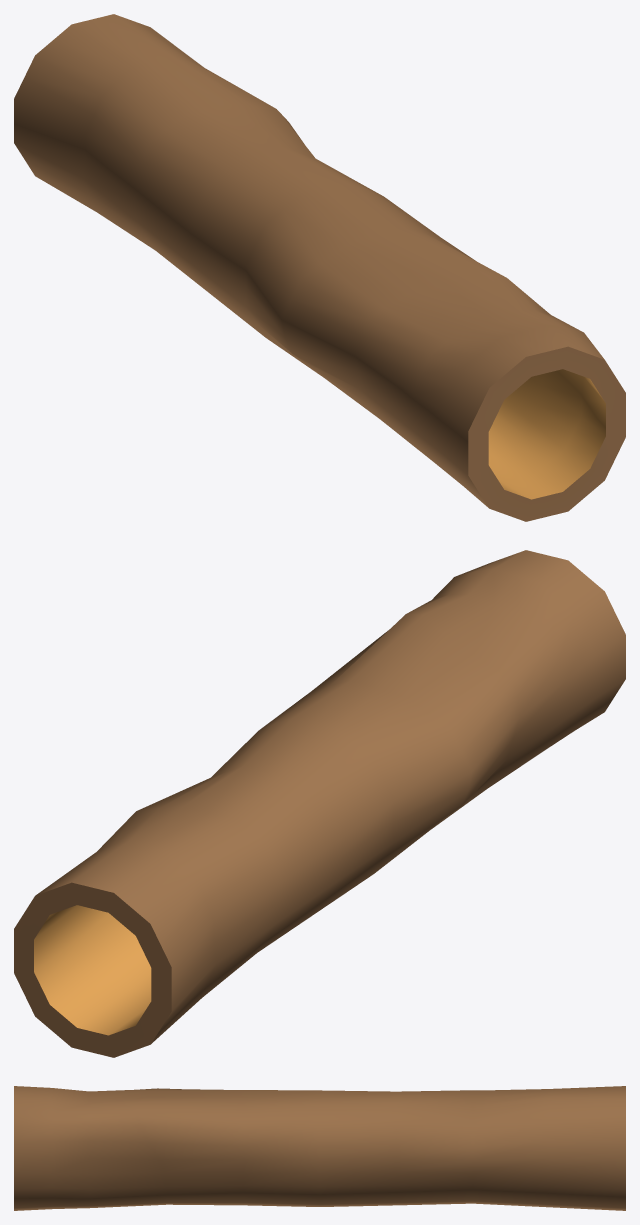
The model's file is tree_log_hallow.fbx.
3 views of the same model, one above another, from view 1: azimuth 30°, elevation 25°; view 2: azimuth 150°, elevation 25°; view 3: azimuth 270°, elevation 25° (orthographic). The views are drawn at different scales.
Visible parts, largest first — view 1: Cylinder.002; view 2: Cylinder.002; view 3: Cylinder.002.
Boxes of the visible parts, <box> form: Cylinder.002: <box>14,14,625,521</box>; Cylinder.002: <box>14,550,625,1057</box>; Cylinder.002: <box>14,1086,625,1210</box>.
Size of the model in its own units: 158 by 136 by 675.
